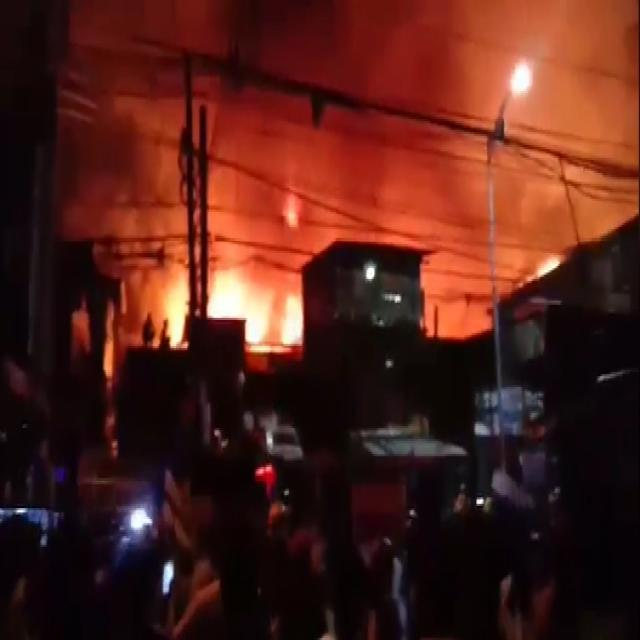Fire: (216, 266, 298, 344)
Smoke: (222, 8, 488, 248)
